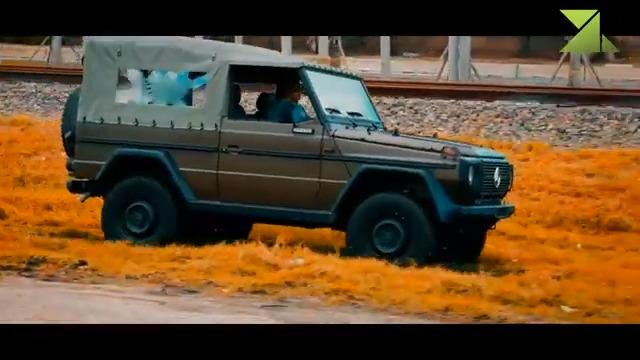MIL_HMMWV: (60, 32, 518, 268), (272, 78, 307, 120)
